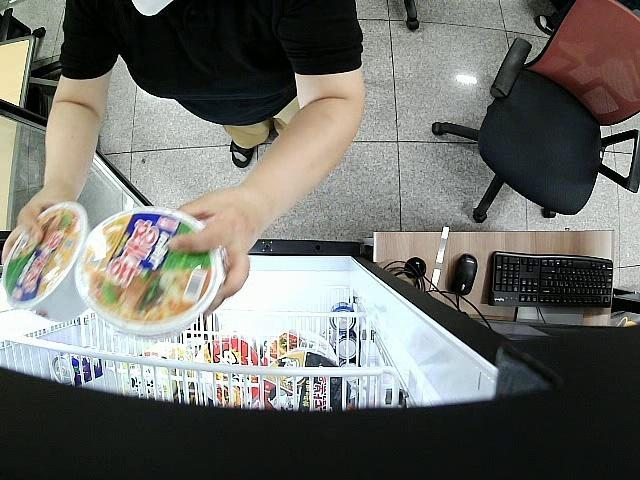09_yukGaeJang: (76, 205, 222, 337), (0, 204, 94, 322)
